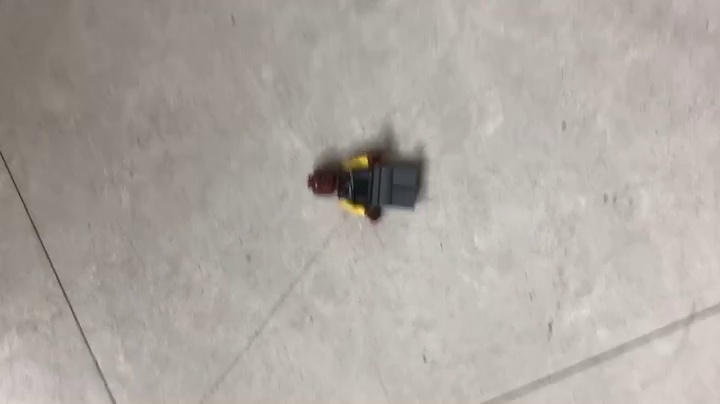people: (307, 147, 429, 224)
